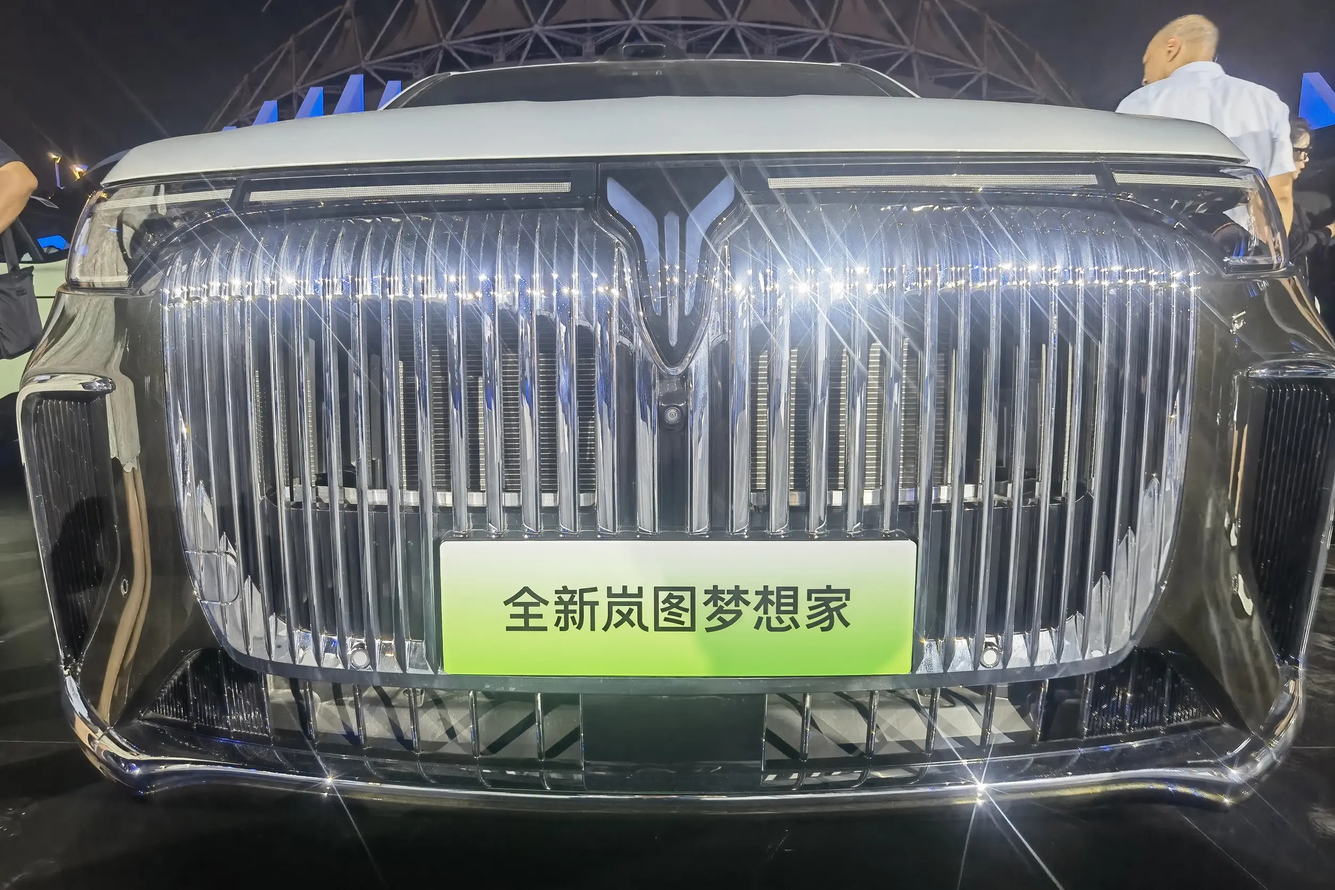VOYAH: (607, 174, 734, 346)
